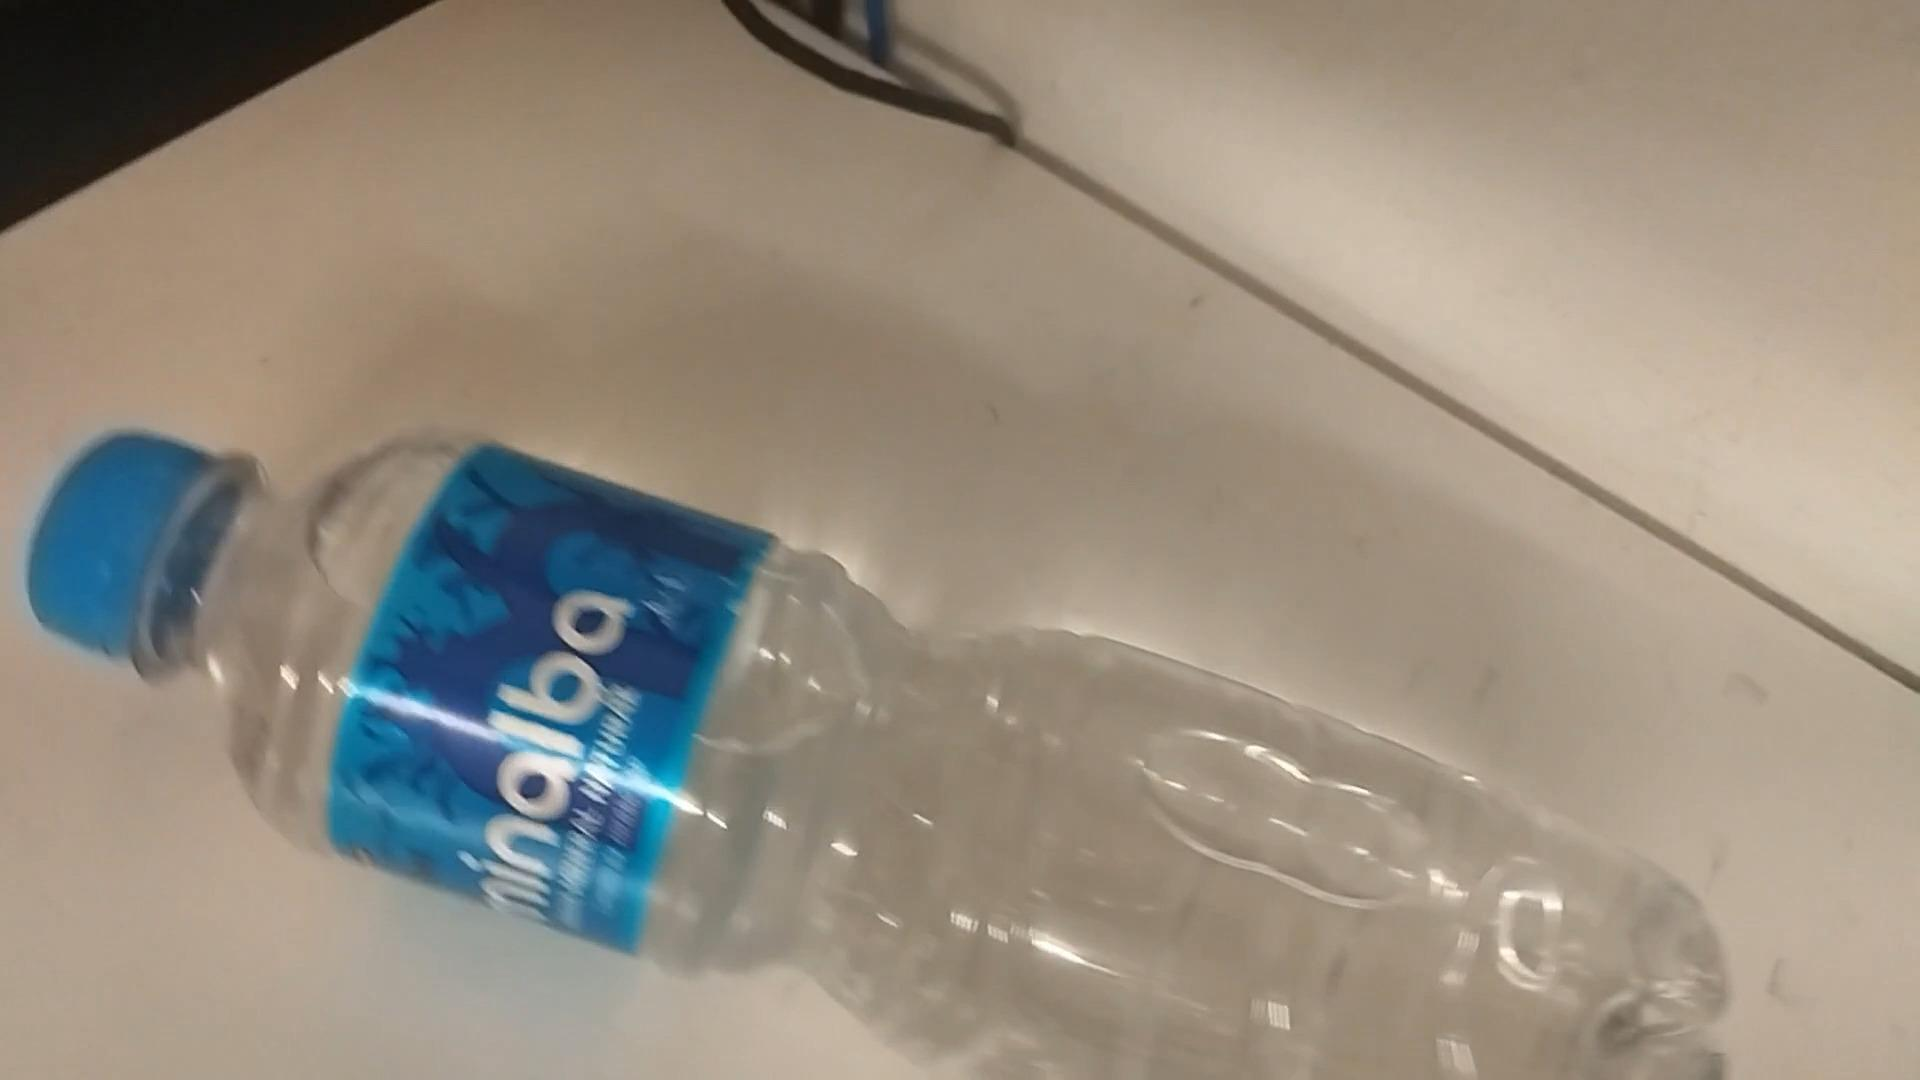agua: (32, 433, 1706, 1080)
